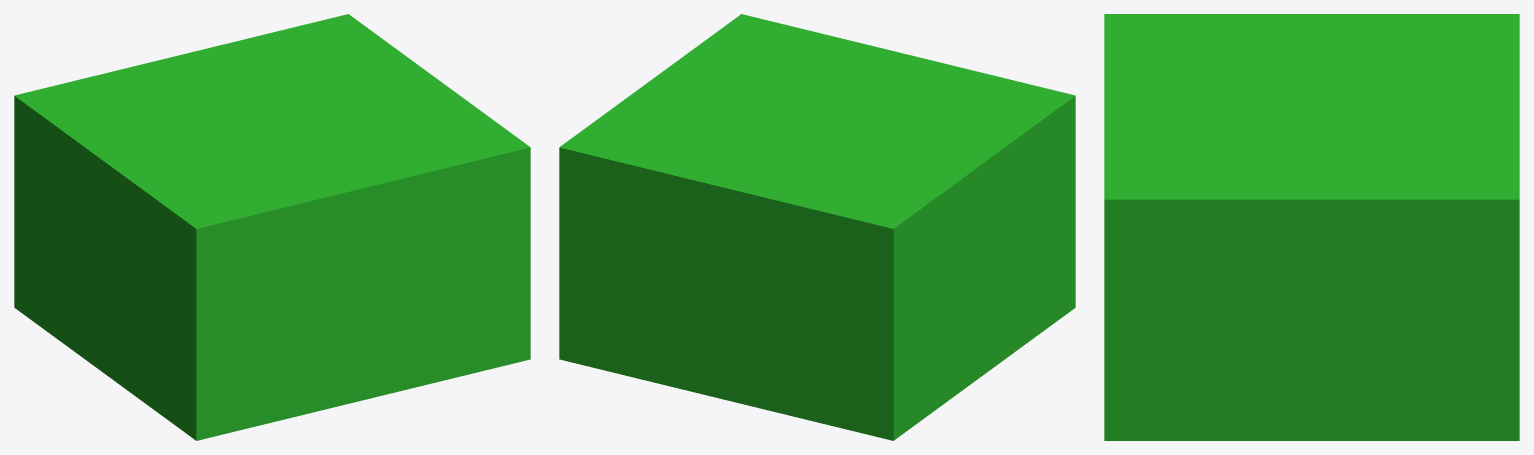
The model's file is deze.glb.
3 renders of one model, left to right at view 1: azimuth 30°, elevation 25°; view 2: azimuth 150°, elevation 25°; view 3: azimuth 270°, elevation 25°, orthographic. The views are drawn at different scales.
Parts seen in each view (by area): view 1: Box001; view 2: Box001; view 3: Box001.
Part boxes in pixels (<box>): Box001: <box>14,14,530,440</box>; Box001: <box>559,14,1075,440</box>; Box001: <box>1104,14,1519,440</box>.
Bounding box in the file's own units: 0.4527 × 0.2743 × 0.4276.
